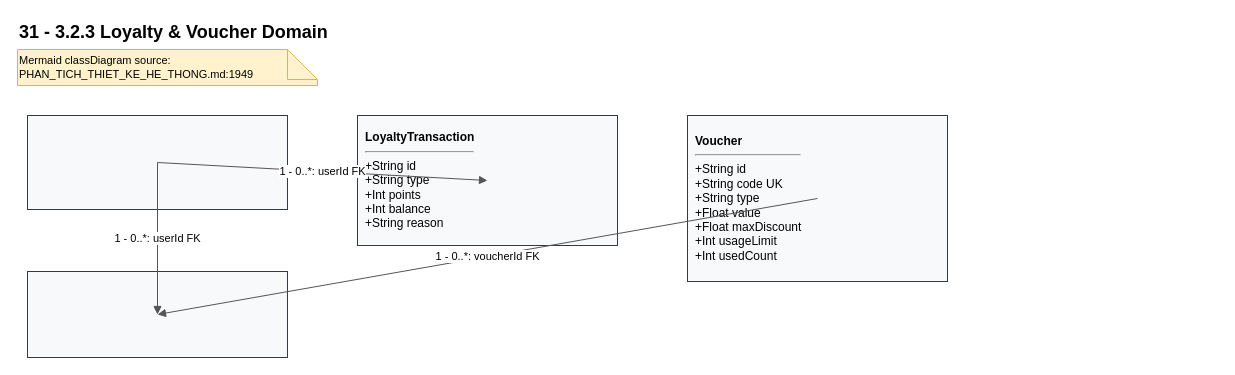
Some shapes in this 1235 by 375 pixel diagram are drawn without their labels. Here are the shapes that lost their labels. From the top down, the centre of each, then its label:
the point at 157,162: User +String id +Int loyaltyPoints +String loyaltyTier
the point at 157,314: VoucherUsage +String id +Float discount
